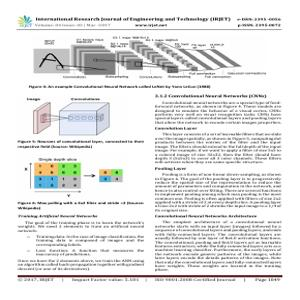diagram: (32, 31, 267, 81), (21, 152, 125, 201), (19, 91, 117, 137)
image: (13, 12, 34, 29)
text: (151, 93, 283, 273), (16, 201, 146, 272), (32, 14, 283, 29)
